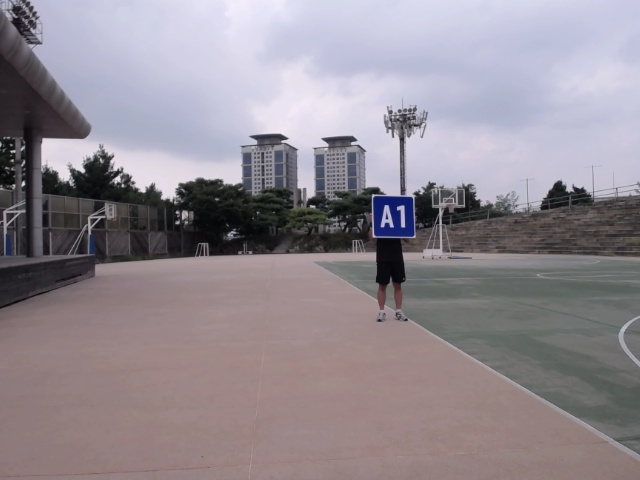delivery_a1: (372, 195, 416, 238)
